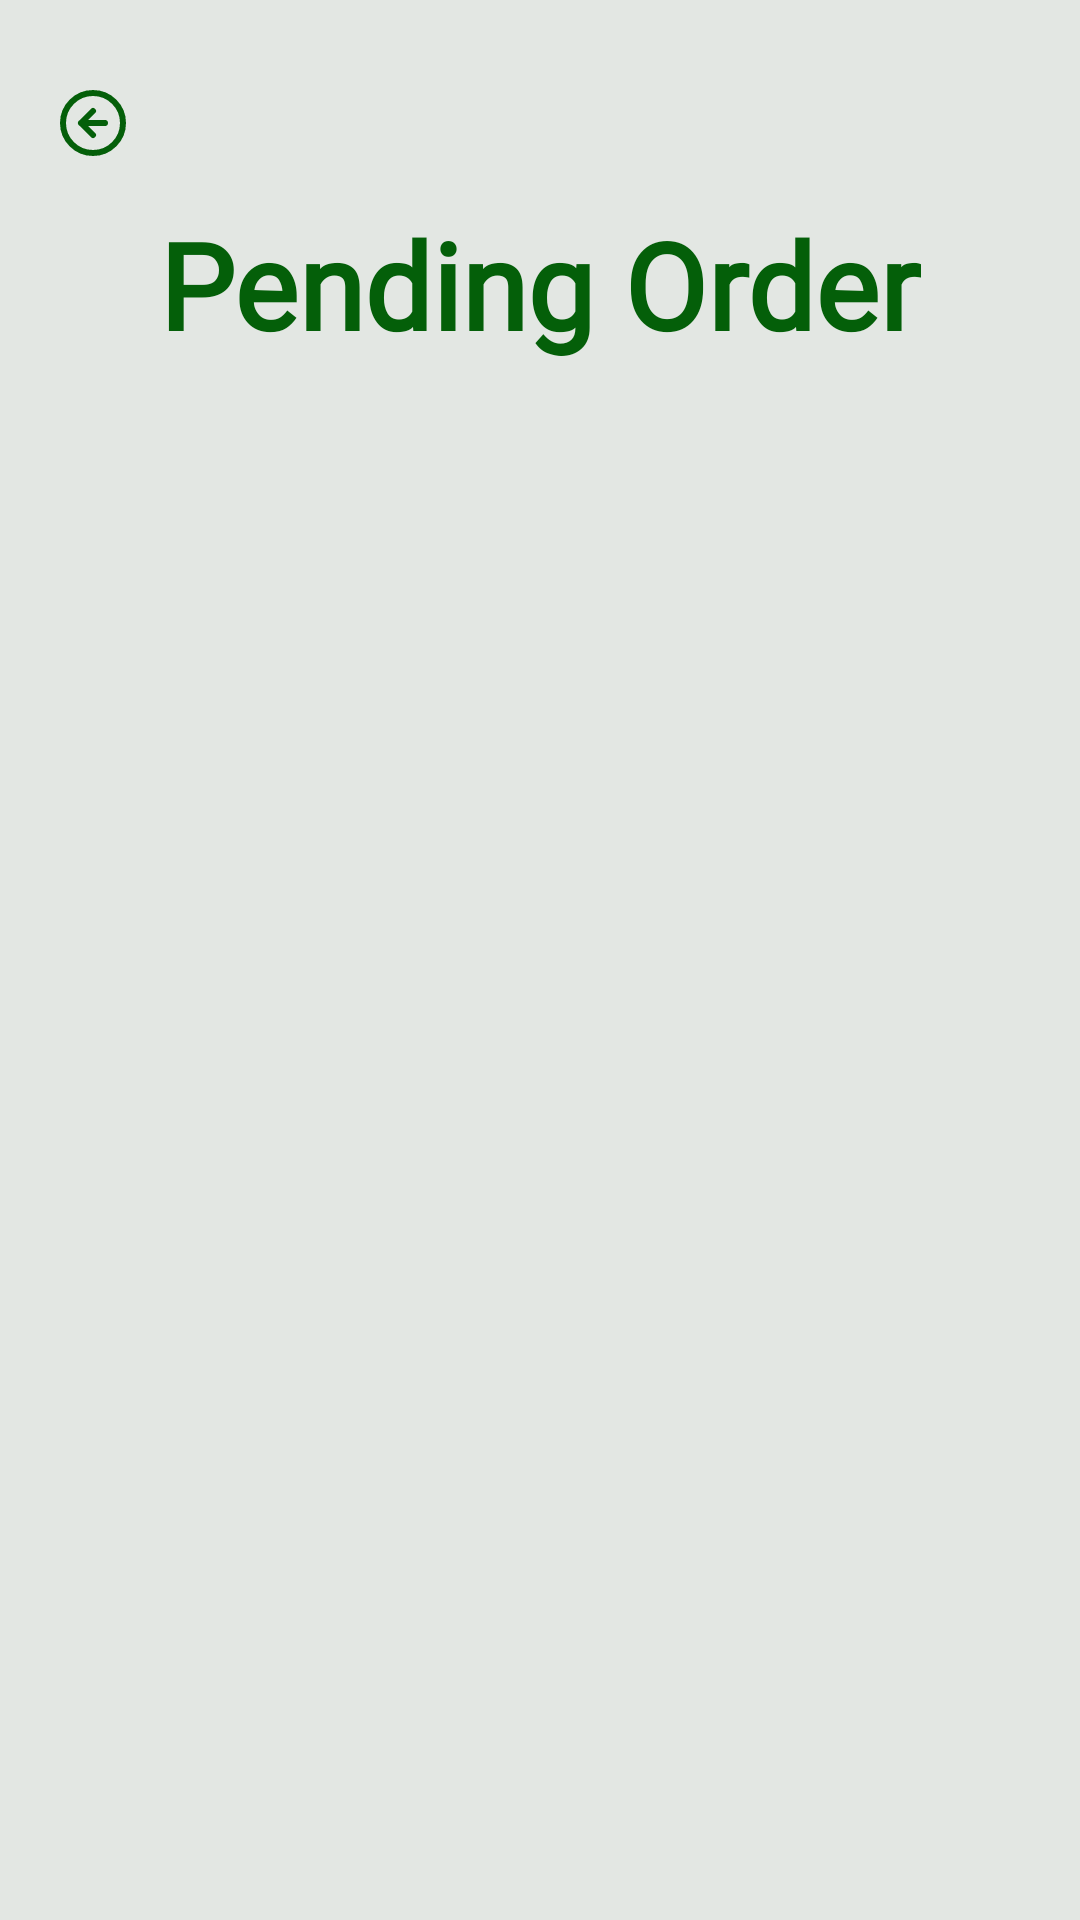

Screen size 1080×1920. Icon name, then its center in pixels as point (x, y):
arrowleft: point (93, 123)
